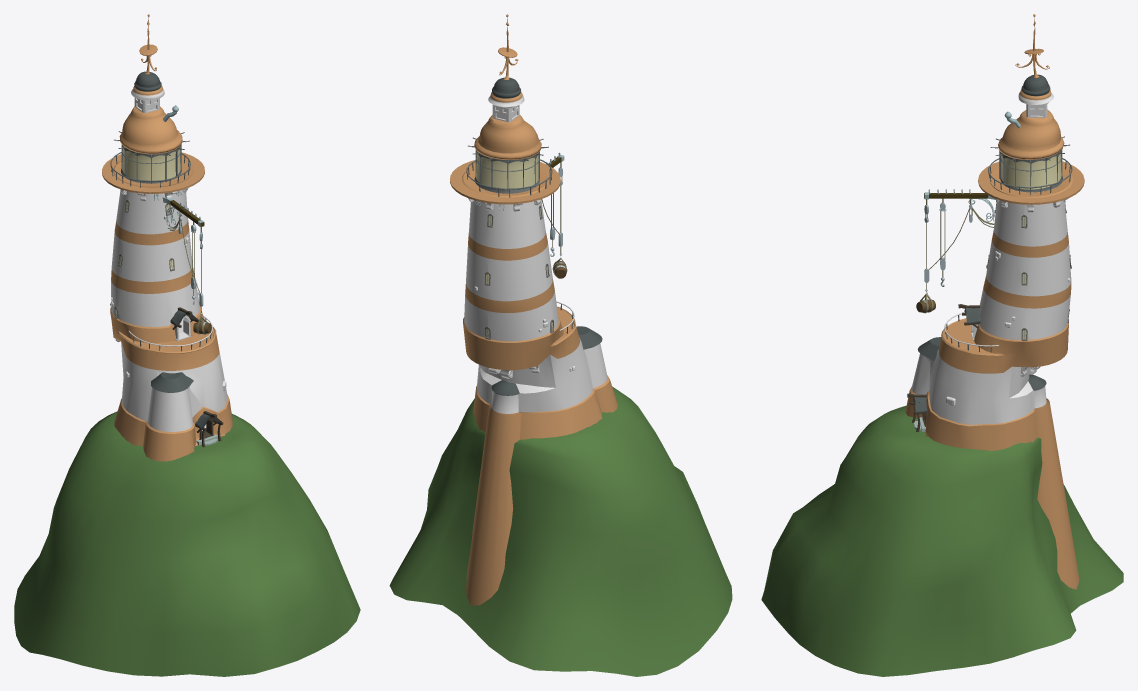
The model's file is Rumo_tower.fbx.
3 renders of one model, left to right at view 1: azimuth 30°, elevation 25°; view 2: azimuth 150°, elevation 25°; view 3: azimuth 270°, elevation 25°, orthographic. The views are drawn at different scales.
Visible parts, largest first — view 1: insel, Fassade, turm_alkoven2, dach2, turm_fenster_glas; view 2: insel, Fassade, turm_alkoven3, dach2, turm_fenster_glas, turm_alkoven2; view 3: insel, Fassade, turm_alkoven3, dach2, turm_fenster_glas, turm_alkoven2.
Boxes of the visible parts, x1,y1,x2,y2 form: insel: [14, 411, 360, 676]; Fassade: [102, 152, 232, 446]; turm_alkoven2: [143, 372, 195, 461]; dach2: [119, 81, 182, 154]; turm_fenster_glas: [121, 147, 181, 183]; insel: [389, 386, 732, 676]; Fassade: [450, 160, 602, 439]; turm_alkoven3: [466, 380, 521, 605]; dach2: [474, 87, 541, 160]; turm_fenster_glas: [474, 152, 539, 193]; turm_alkoven2: [576, 326, 617, 412]; insel: [761, 405, 1123, 676]; Fassade: [925, 161, 1084, 450]; turm_alkoven3: [1028, 374, 1079, 589]; dach2: [998, 84, 1064, 159]; turm_fenster_glas: [1000, 153, 1062, 192]; turm_alkoven2: [905, 337, 941, 418].
Bounding box in the file's own units: 254 × 502 × 267.
